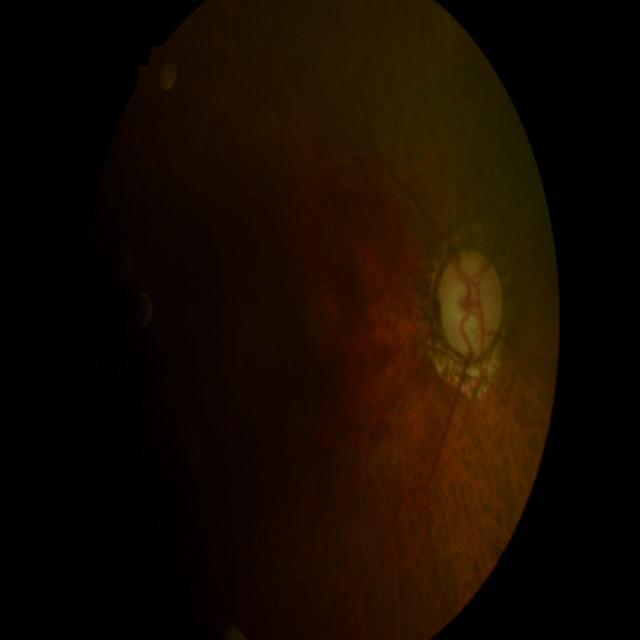cup: (442, 257, 499, 351)
disk: (438, 250, 503, 359)
